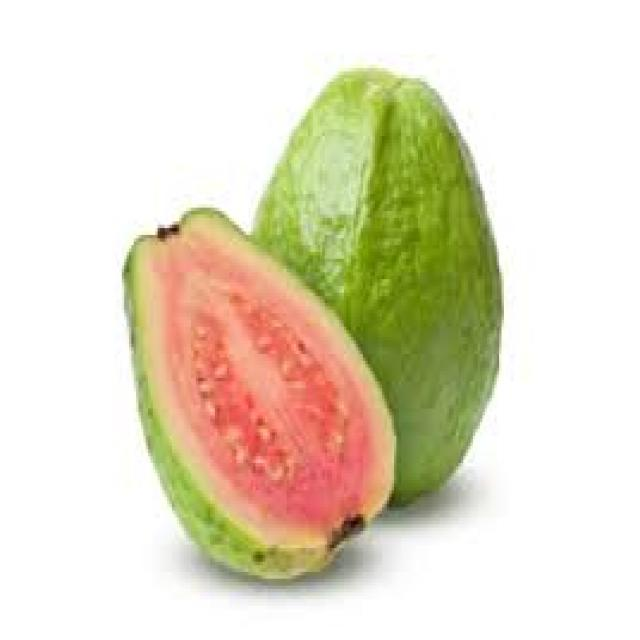organic waste: (244, 65, 502, 507), (122, 204, 394, 582)
